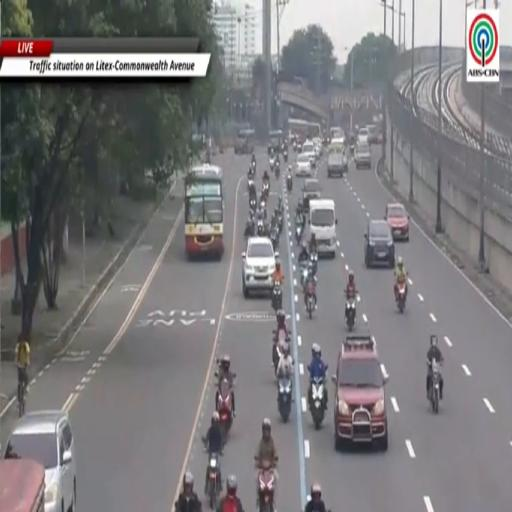bus: (185, 165, 224, 259), (0, 459, 44, 511), (288, 119, 322, 143), (234, 130, 254, 154)
car: (4, 410, 76, 511), (332, 333, 388, 451), (242, 237, 278, 298), (364, 219, 395, 268), (385, 203, 409, 241), (327, 143, 348, 177), (303, 179, 321, 211), (355, 142, 371, 169), (301, 140, 316, 168), (295, 154, 312, 177), (367, 124, 378, 145), (313, 138, 323, 158), (357, 127, 368, 142)
motorcycle: (217, 379, 233, 443), (258, 461, 275, 511), (310, 378, 326, 429), (207, 453, 221, 510), (272, 330, 288, 374), (278, 377, 291, 422), (429, 360, 440, 413), (304, 278, 316, 319), (346, 298, 356, 331), (396, 282, 406, 314), (272, 281, 282, 312), (300, 262, 309, 291), (309, 252, 318, 275), (270, 229, 279, 251), (295, 214, 305, 231), (245, 220, 254, 238), (257, 219, 265, 236), (295, 226, 302, 245), (276, 213, 282, 234), (259, 194, 266, 212), (274, 159, 280, 179), (249, 197, 256, 214), (262, 181, 269, 197), (248, 176, 254, 193), (287, 173, 292, 193), (269, 157, 275, 171), (251, 160, 256, 174), (283, 149, 288, 163), (292, 141, 297, 151), (350, 144, 354, 155)
